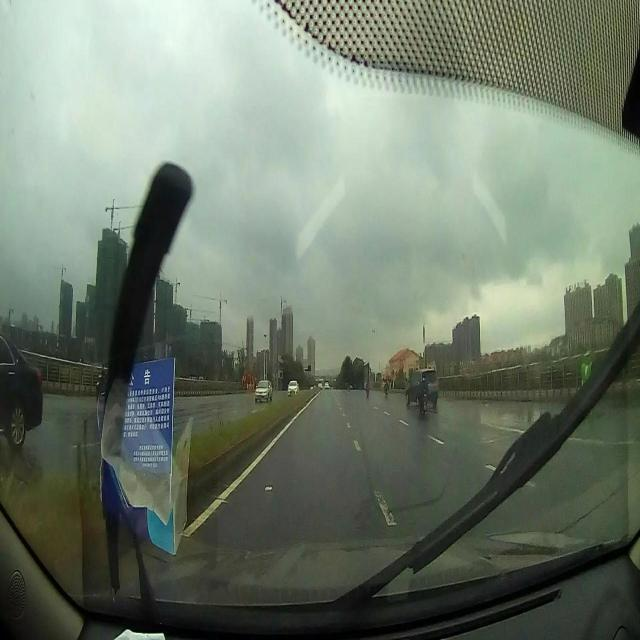car: (0, 329, 42, 449), (404, 364, 437, 405), (255, 378, 273, 401), (288, 378, 298, 394)
